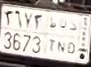3: (32, 13, 43, 54), (3, 9, 13, 50)
6: (13, 10, 23, 52)
7: (22, 12, 33, 52)
D: (67, 21, 77, 55)
N: (56, 17, 67, 53)
T: (48, 15, 57, 52)
